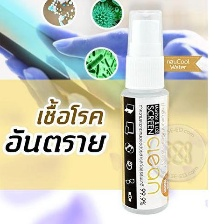cleaning_solution: (115, 6, 173, 217)
phone: (0, 1, 139, 124)
